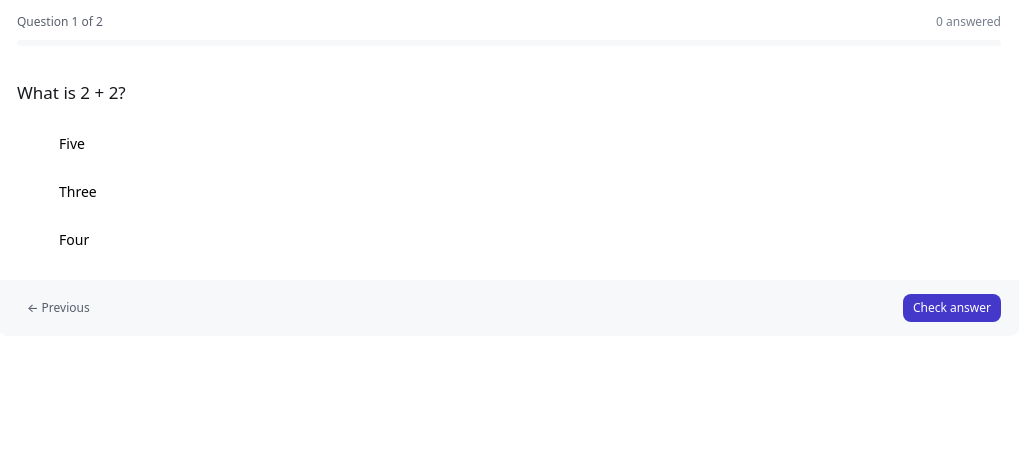
Quiz — the answer is never shown before the learner commits › reveals the explanation and feedback after committing
The width and height of the screenshot is (1019, 455).
Click the radio button labelled "Four": [74, 239] box [17, 220, 1001, 260]
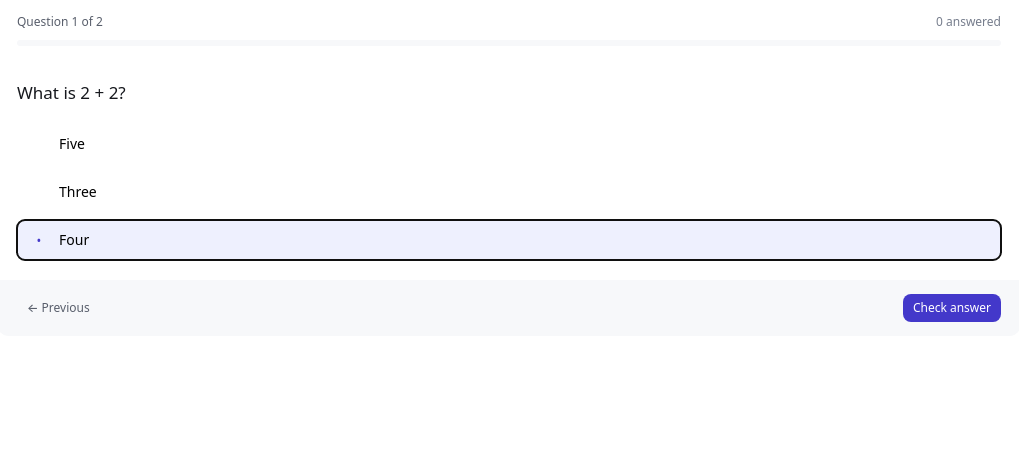
Click the button "Check answer": [952, 308] box [903, 294, 1001, 322]
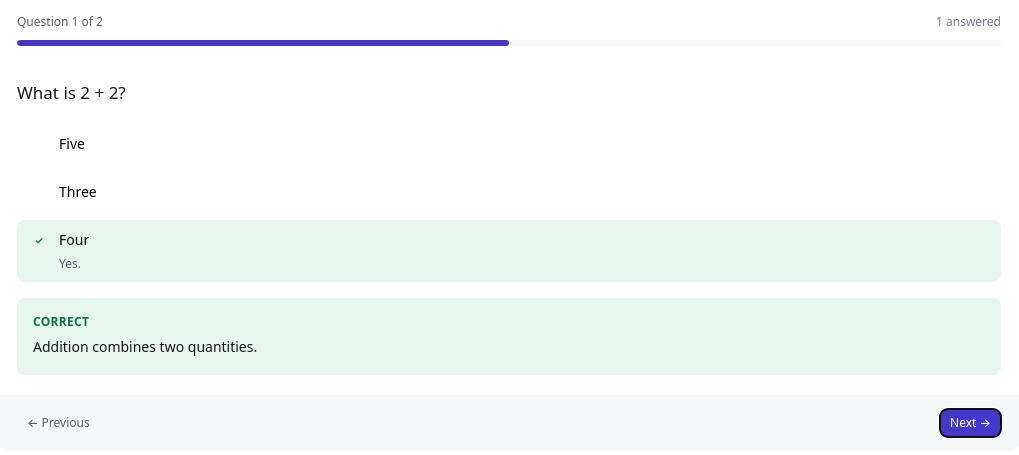
Expected: the text "Addition combines two quantities." is shown, [33, 337, 257, 356]
Expected: the text "Correct" is shown, [33, 313, 89, 330]
